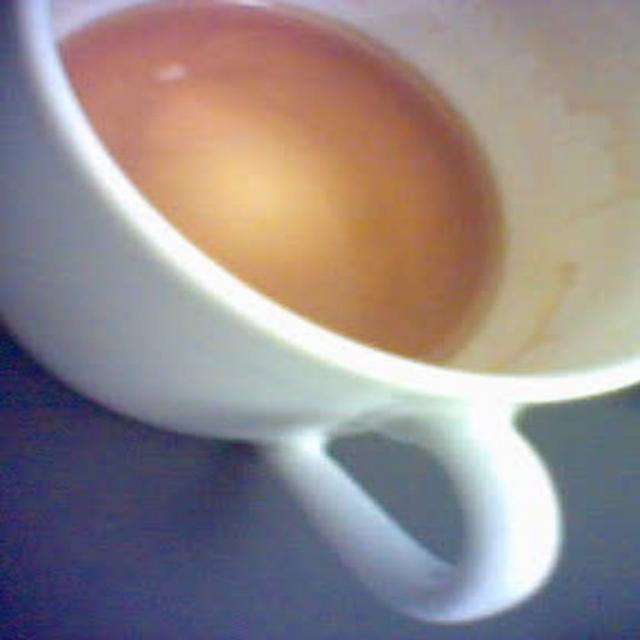Coffee: (56, 0, 518, 368)
